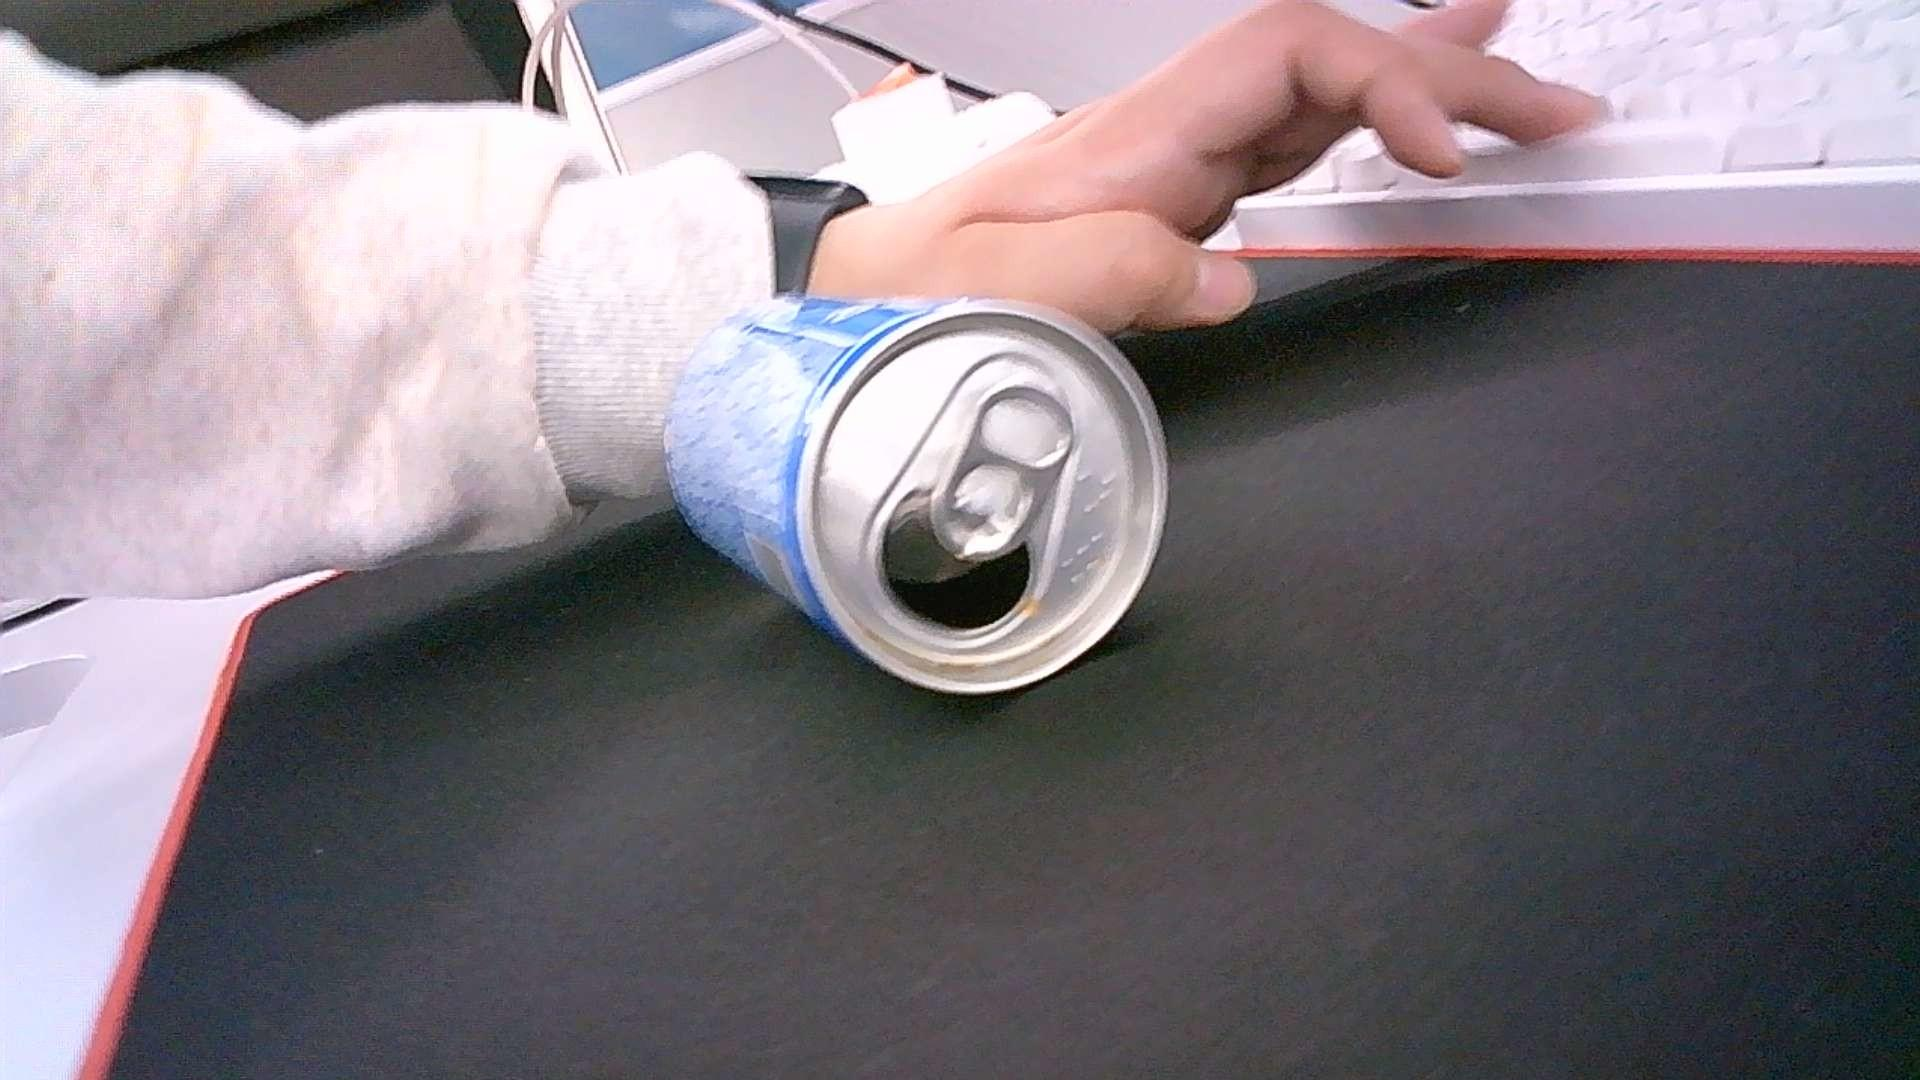letsbe: (663, 294, 1170, 696)
